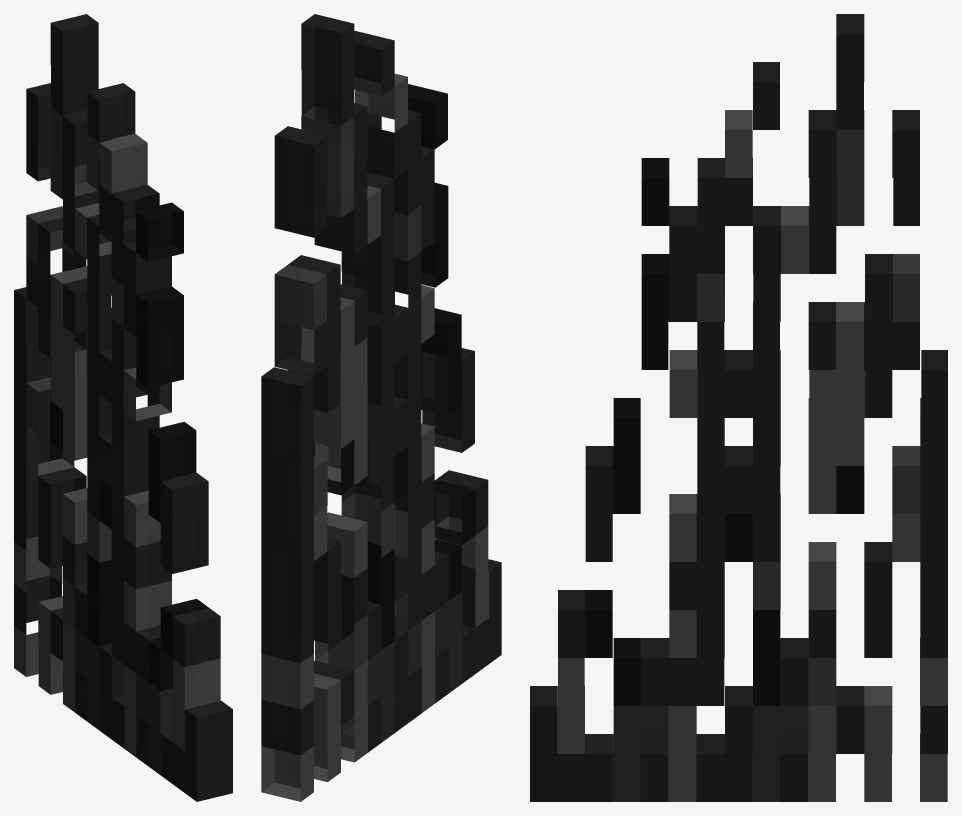
File: wall_scorchmark_1.gltf
3 renders of one model, left to right at view 1: azimuth 30°, elevation 25°; view 2: azimuth 150°, elevation 25°; view 3: azimuth 270°, elevation 25°, orthographic. The views are drawn at different scales.
Visible parts, largest first — view 1: wall_scorchmark_1; view 2: wall_scorchmark_1; view 3: wall_scorchmark_1.
Part boxes in pixels (bbox=[...]): wall_scorchmark_1: bbox=[14, 14, 232, 801]; wall_scorchmark_1: bbox=[261, 14, 501, 801]; wall_scorchmark_1: bbox=[530, 14, 947, 801].
Bounding box in the file's own units: 0.0992 × 1.77 × 0.874.
1 material, 1 textured.
